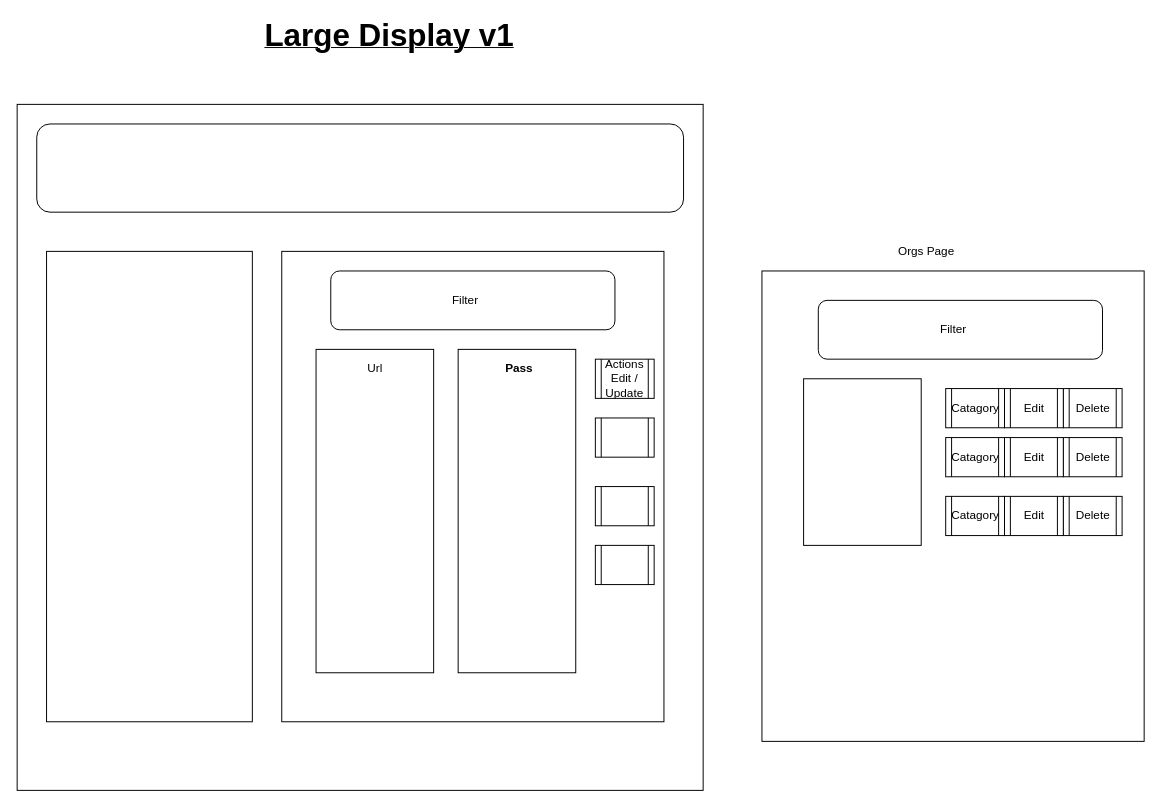
This 1161x808 diagram has some shape labels left out. Each missing label, with the box of its shape:
Actions for ORG Add User Change Name etc: (46, 250, 252, 722)
Header: (36, 123, 684, 212)
Org: (803, 378, 921, 545)
